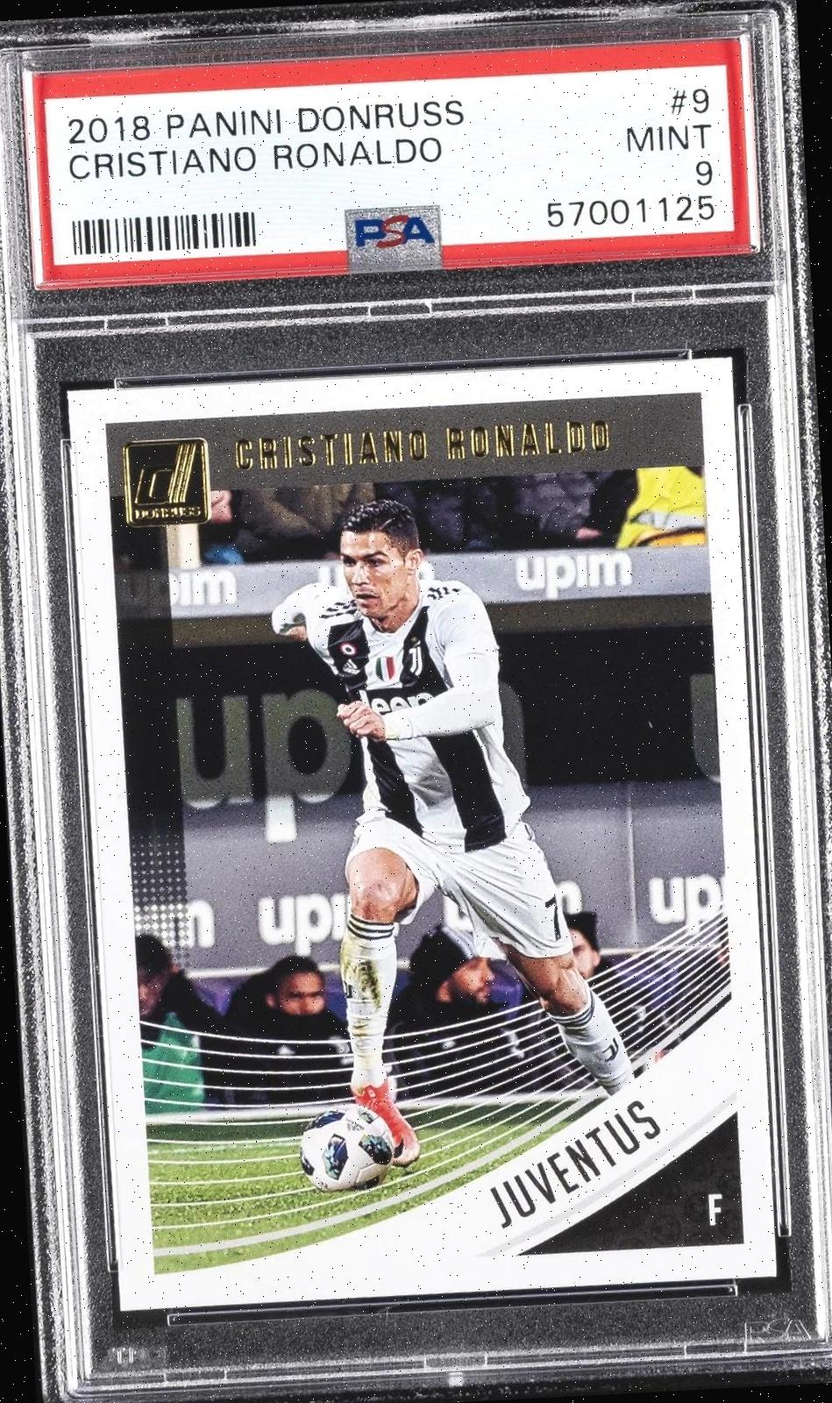card-2UtV: (66, 355, 778, 1312)
